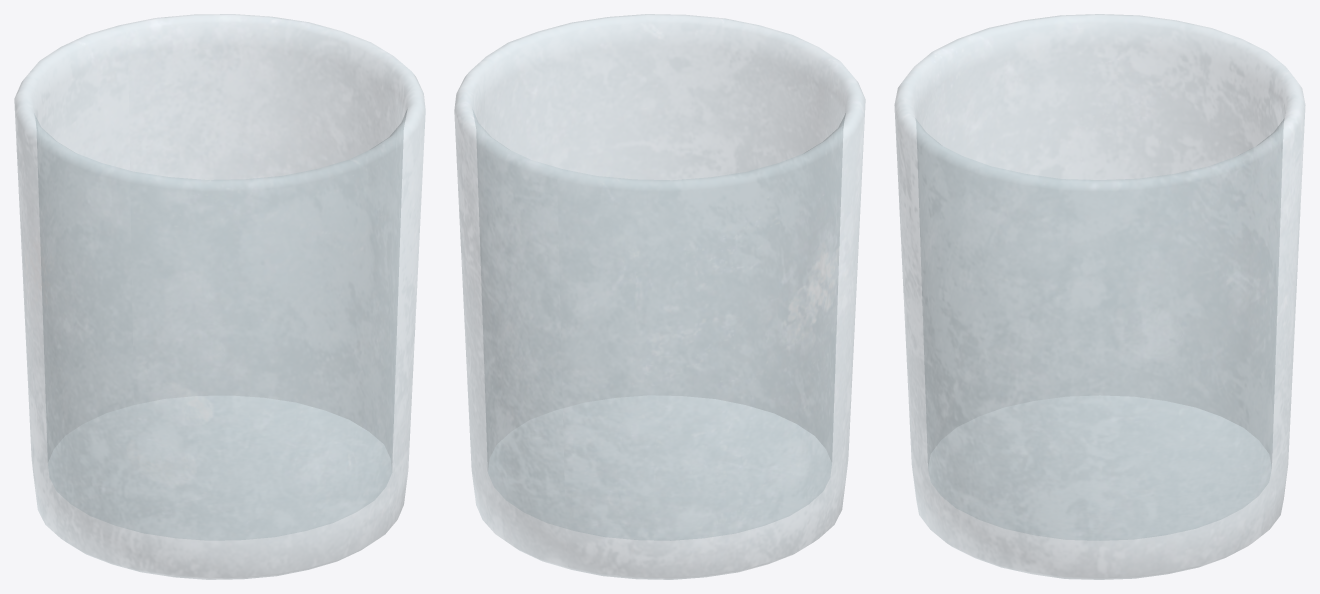
The model's file is glass.gltf.
3 views of the same model, side by side, from view 1: azimuth 30°, elevation 25°; view 2: azimuth 150°, elevation 25°; view 3: azimuth 270°, elevation 25° (orthographic).
Visible parts, largest first — view 1: SM_Glass; view 2: SM_Glass; view 3: SM_Glass.
Boxes of the visible parts, bbox=[...] form: SM_Glass: bbox=[14, 14, 425, 579]; SM_Glass: bbox=[454, 14, 865, 579]; SM_Glass: bbox=[894, 14, 1305, 579].
Size of the model in its own units: 0.0705 by 0.077 by 0.0705.
1 material, 1 textured.
